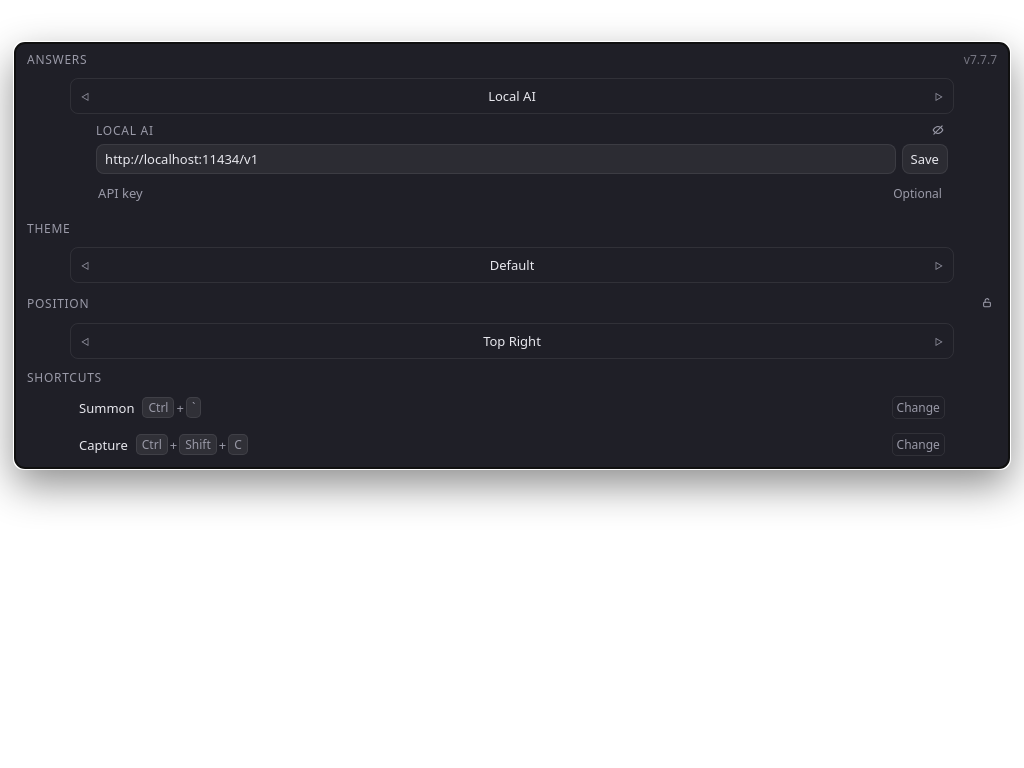
it: a failed mode flip says so and moves nothing
Click the button with aria-label "Choose the answer source" at coordinates (512, 96), box [99,79,925,113]
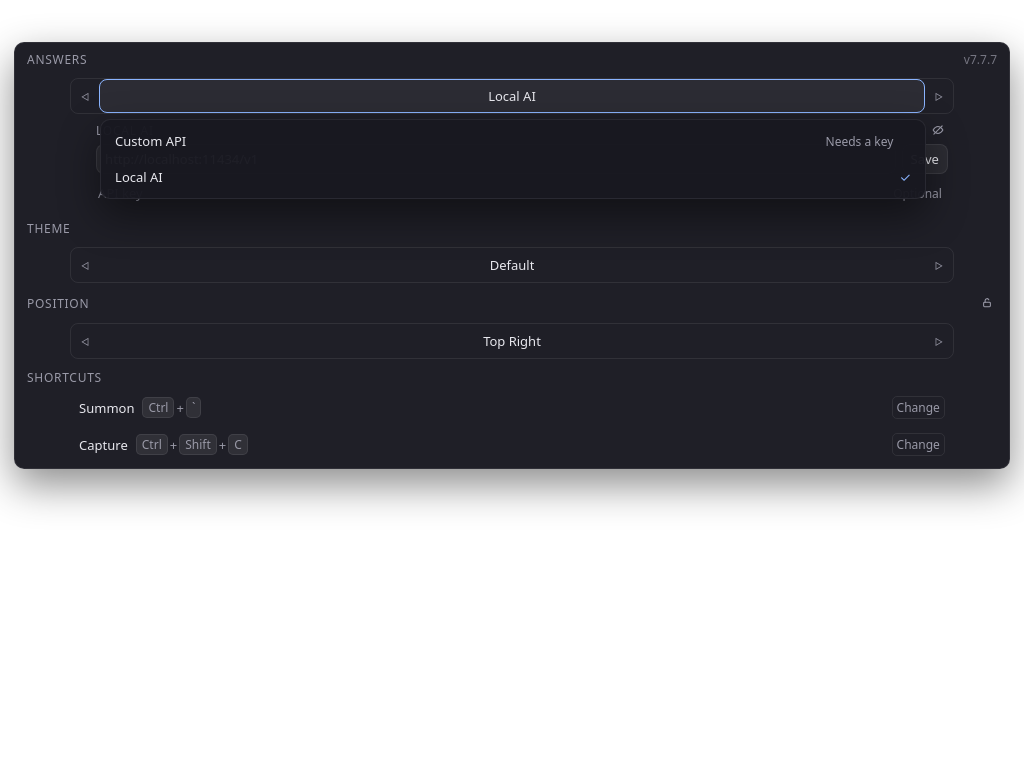
Click the button with aria-label "Answer with your own provider" at coordinates (151, 141), box [107,124,919,158]
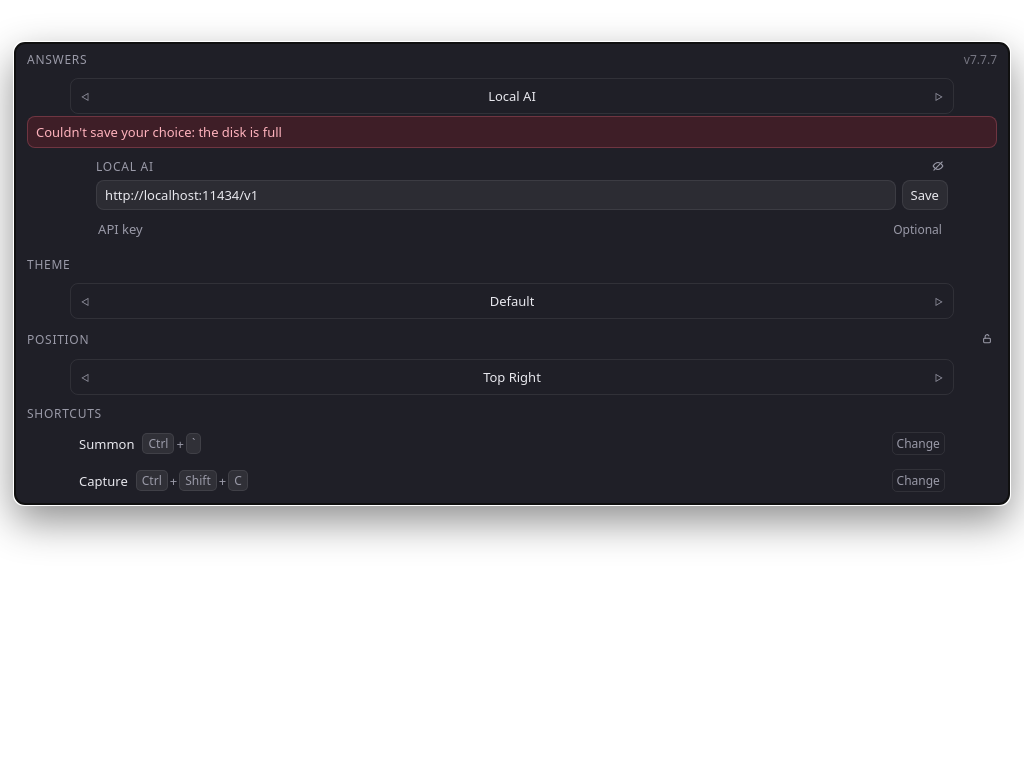
Check: the button with aria-label "Choose the answer source" reads "Local AI", box [99,79,925,113]
Check: the text "Couldn't save your choice: the disk is full" is shown, box [27,116,997,148]
